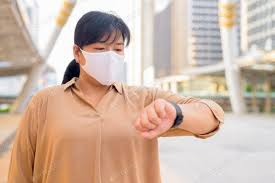with-mask: (68, 10, 135, 86)
